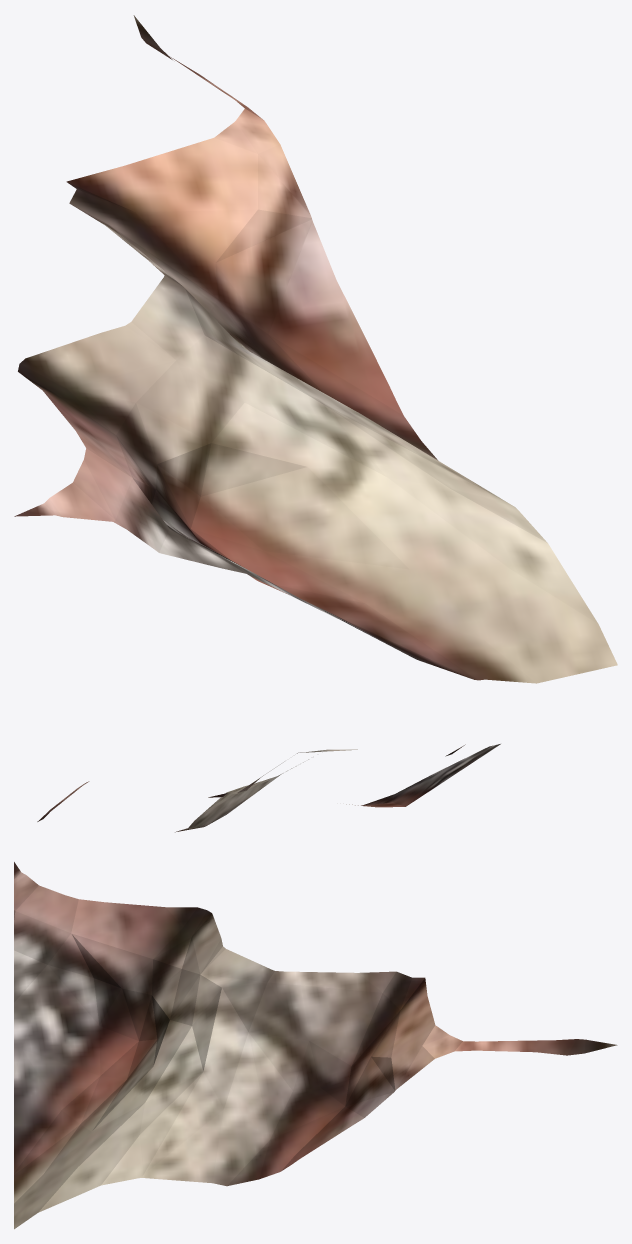
The picture shows the model from 3 angles, top to bottom: view 1: azimuth 30°, elevation 25°; view 2: azimuth 150°, elevation 25°; view 3: azimuth 270°, elevation 25°; orthographic projection. The views are drawn at different scales.
Bounding box in the file's own units: 0.3356 × 0.1572 × 0.4664.
1 material, 1 textured.
